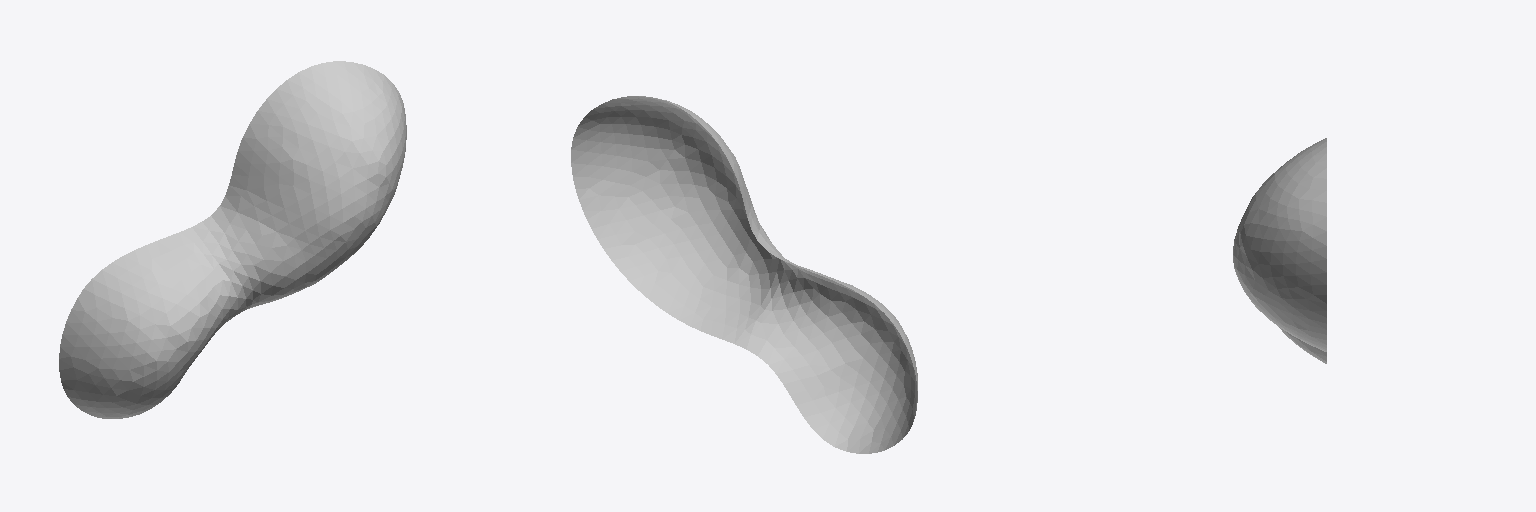
Rendered from b2_opt_(1)_start.obj.
3 renders of one model, left to right at view 1: azimuth 30°, elevation 25°; view 2: azimuth 150°, elevation 25°; view 3: azimuth 270°, elevation 25°, orthographic.
Visible parts, largest first — view 1: samples/b2_opt_(1)_start; view 2: samples/b2_opt_(1)_start; view 3: samples/b2_opt_(1)_start.
Part boxes in pixels (x1,y1,x2,y2): samples/b2_opt_(1)_start: (59,61,406,418); samples/b2_opt_(1)_start: (571,96,917,453); samples/b2_opt_(1)_start: (1233,138,1326,363).
Bounding box in the file's own units: 66.7 × 56.47 × 15.82.